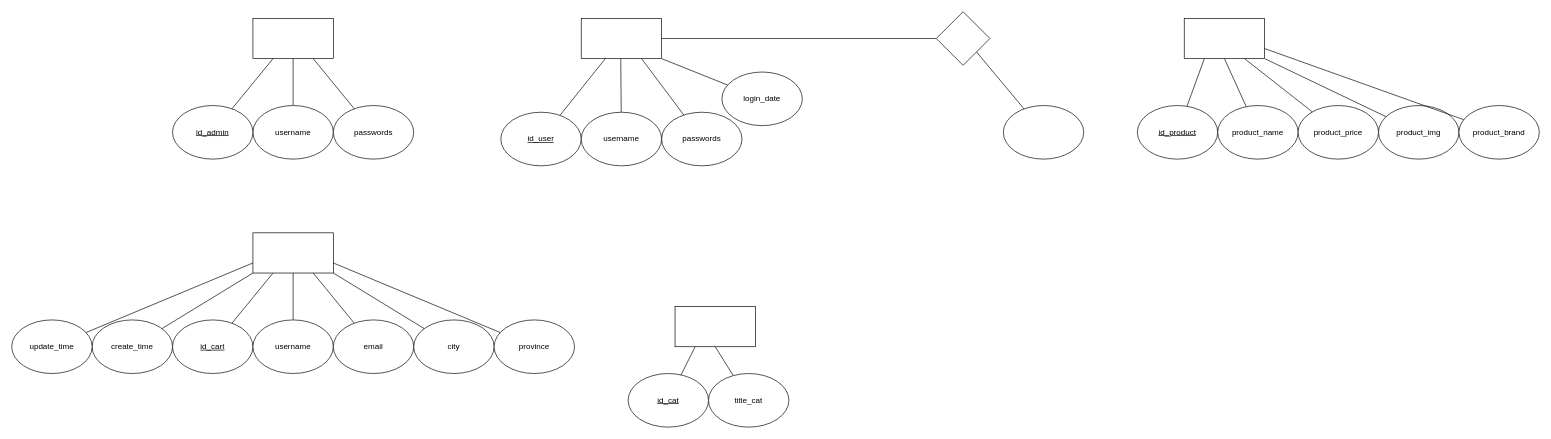
Some shapes in this 1551 by 439 pixel diagram are drawn without their labels. The centre of each missing label's shape, as x and y in pixels:
Admin: the point at 292,38
cart: the point at 292,252
catagories: the point at 714,326
id_order: the point at 1043,132
Loginuser: the point at 621,38
Products: the point at 1224,38
